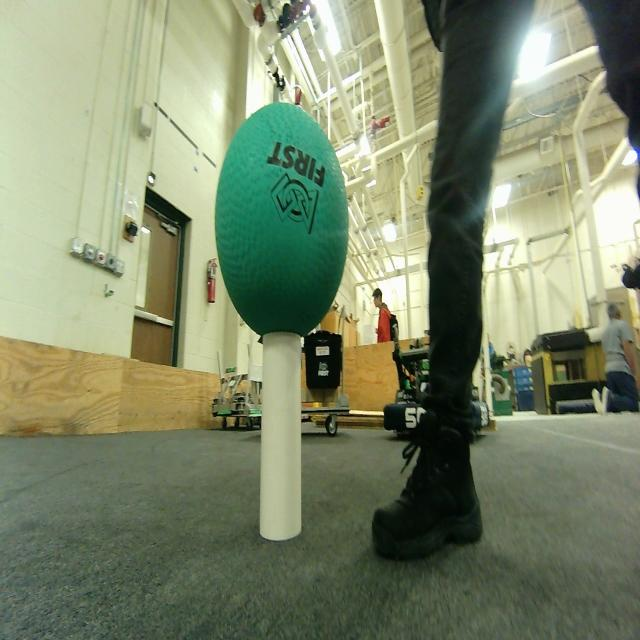algae: (210, 100, 363, 334)
coral: (258, 322, 312, 552)
